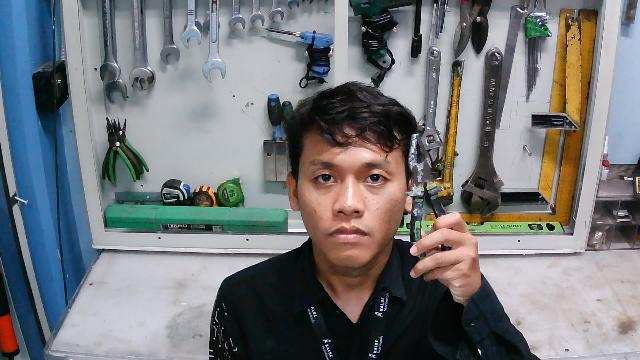tang_kombinasi: (408, 131, 456, 270)
